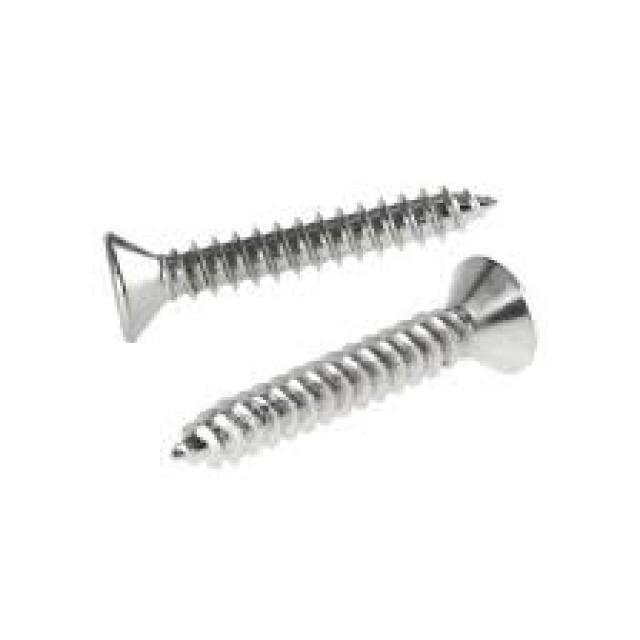Screw: (171, 257, 537, 466), (106, 189, 500, 343)
